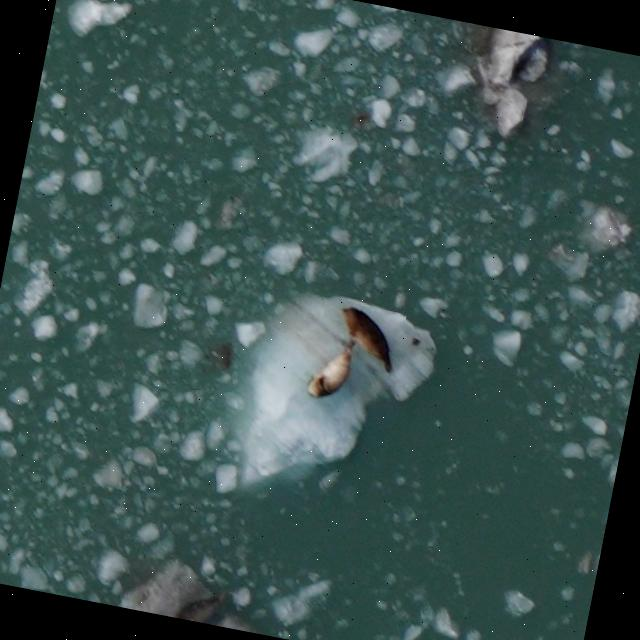seal: (326, 301, 407, 376), (303, 332, 360, 405), (169, 574, 239, 628)
